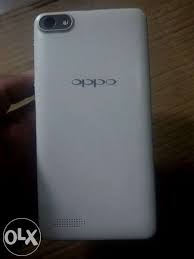oppo: (30, 2, 157, 245)
